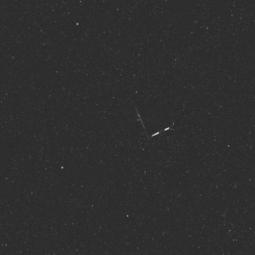proba_3_ocs: (131, 86, 179, 144)
